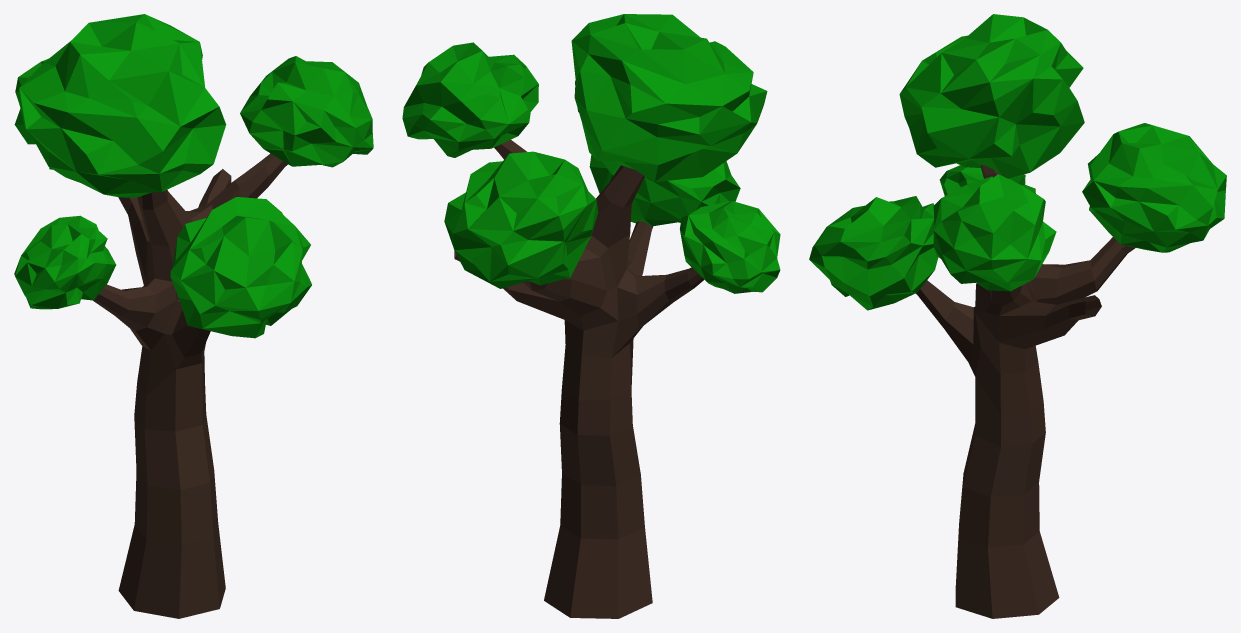
The model's file is tree_GGJ.fbx.
3 renders of one model, left to right at view 1: azimuth 30°, elevation 25°; view 2: azimuth 150°, elevation 25°; view 3: azimuth 270°, elevation 25°, orthographic. The views are drawn at different scales.
Parts seen in each view (by area): view 1: Cylinder, Icosphere.001, Icosphere.002, Icosphere.003, Icosphere.004, Icosphere; view 2: Cylinder, Icosphere.001, Icosphere, Icosphere.003, Icosphere.004, Icosphere.002; view 3: Cylinder, Icosphere.001, Icosphere, Icosphere.003, Icosphere.002, Icosphere.004.
Part boxes in pixels (x1,y1,x2,y2): Cylinder: (93,153,287,618); Icosphere.001: (18,14,226,197); Icosphere.002: (170,197,311,338); Icosphere.003: (240,56,373,167); Icosphere.004: (14,215,116,309); Icosphere: (14,58,52,169); Cylinder: (454,140,704,618); Icosphere.001: (571,14,767,181); Icosphere: (444,151,598,288); Icosphere.003: (402,42,538,157); Icosphere.004: (680,201,780,293); Icosphere.002: (589,155,740,226); Cylinder: (915,164,1135,618); Icosphere.001: (899,14,1084,178); Icosphere: (1082,123,1226,252); Icosphere.003: (933,174,1056,291); Icosphere.002: (809,196,938,310); Icosphere.004: (939,165,1035,195).
Bounding box in the file's own units: 447 × 702 × 488.
